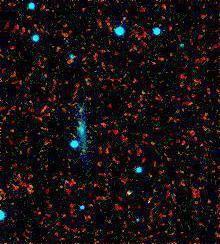star: (60, 92, 90, 122)
